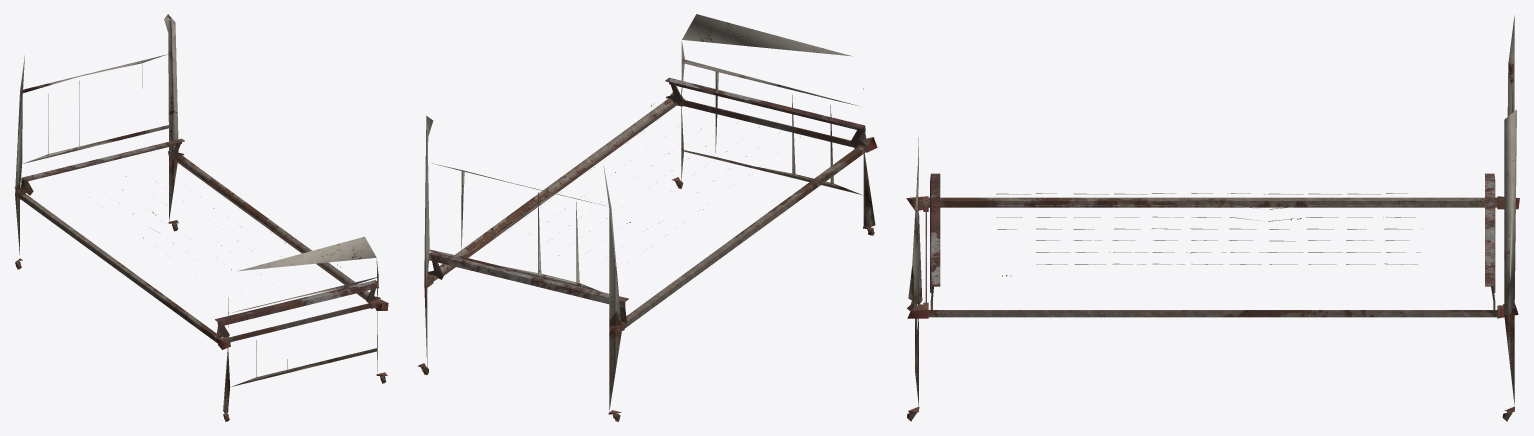
Rendered from old_bed_frame.glb.
3 views of the same model, side by side, from view 1: azimuth 30°, elevation 25°; view 2: azimuth 150°, elevation 25°; view 3: azimuth 270°, elevation 25° (orthographic). The views are drawn at different scales.
Visible parts, largest first — view 1: old_bed_frame; view 2: old_bed_frame; view 3: old_bed_frame.
Boxes of the visible parts, box(x1,y1,x2,y2) form: old_bed_frame: box(14, 14, 388, 421); old_bed_frame: box(418, 14, 877, 421); old_bed_frame: box(906, 15, 1519, 421).
Size of the model in its own units: 0.8966 by 1.11 by 2.
Materials: 1 (1 with a texture image).
